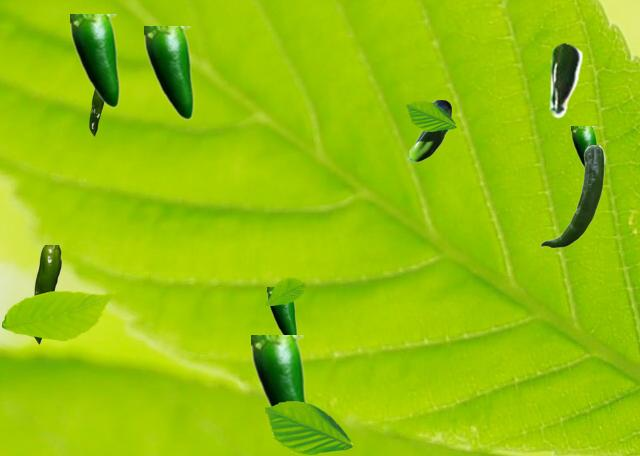green_chili: (540, 145, 604, 247), (70, 14, 119, 107), (144, 26, 193, 119), (251, 335, 307, 405), (33, 245, 60, 343), (547, 42, 582, 117), (407, 100, 450, 161), (267, 287, 296, 334), (571, 126, 598, 167), (89, 91, 104, 135)
